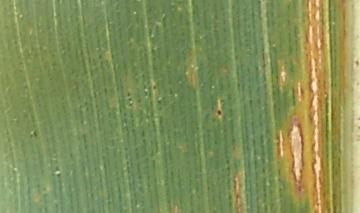tarspot: (32, 129, 40, 139), (215, 108, 223, 116)
